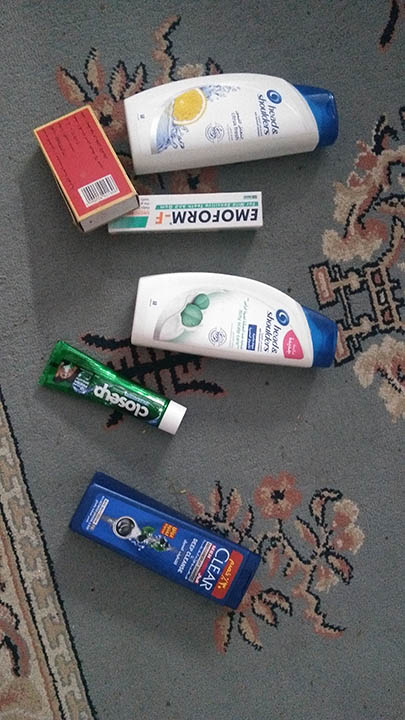Shampoo-Clear 4.7$: (60, 469, 261, 611)
Toothpaste-Closeup 3.04$: (37, 341, 194, 435)
Toothpaste-F 1.5$: (101, 193, 268, 242)
match-sticks .90$: (27, 99, 143, 231)
shampoo-Lemon 3.5$: (117, 79, 340, 168)
shampoo-green 4.5$: (131, 267, 345, 367)
